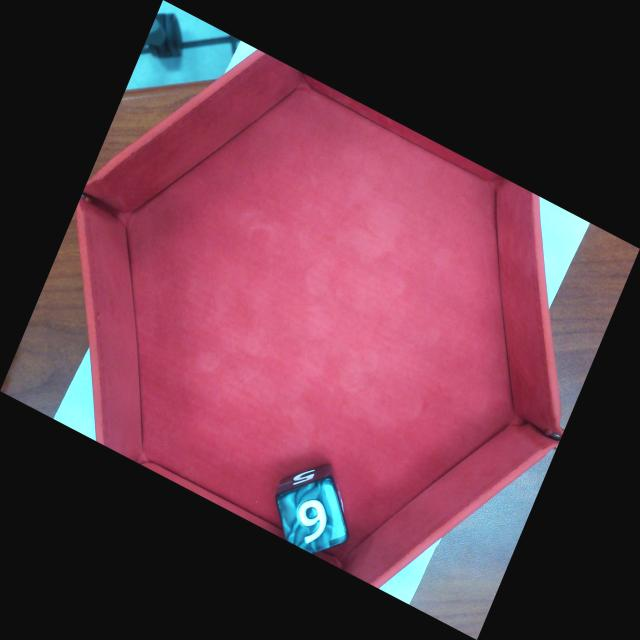dice: (276, 472, 350, 565)
